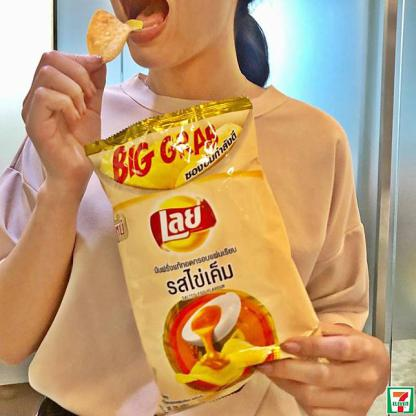potatochip: (86, 93, 334, 416)
